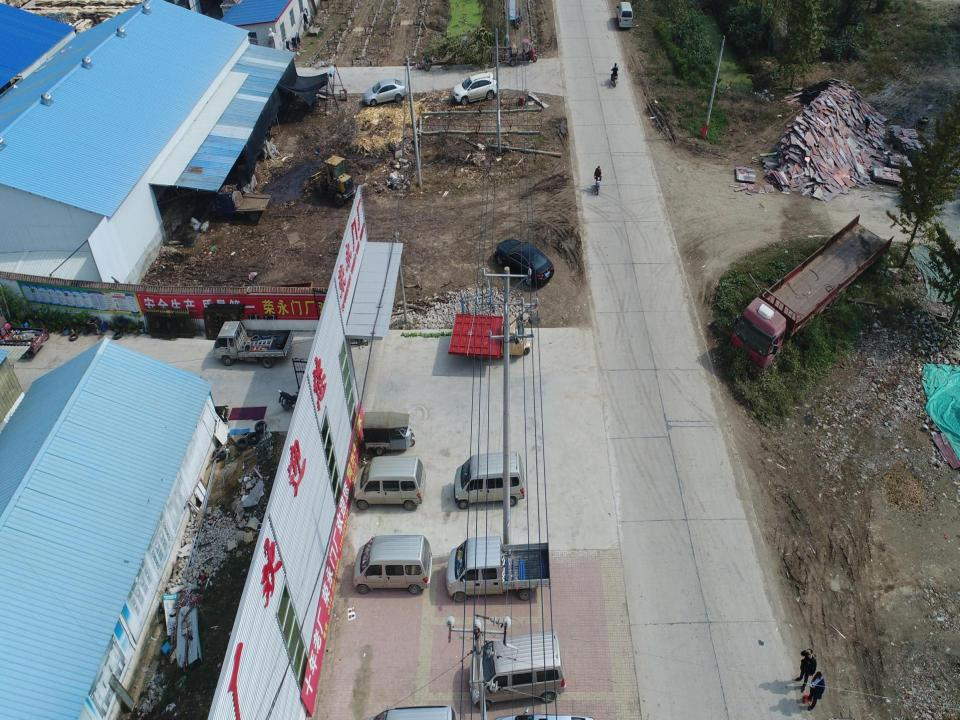car: (496, 238, 554, 288), (452, 73, 498, 106), (363, 78, 407, 106)
truck: (730, 212, 894, 374), (447, 535, 550, 602), (212, 321, 293, 368), (310, 154, 356, 204), (0, 317, 45, 359)
van: (471, 630, 565, 710), (354, 535, 431, 594), (455, 452, 525, 509), (354, 456, 425, 512), (617, 0, 633, 30)
